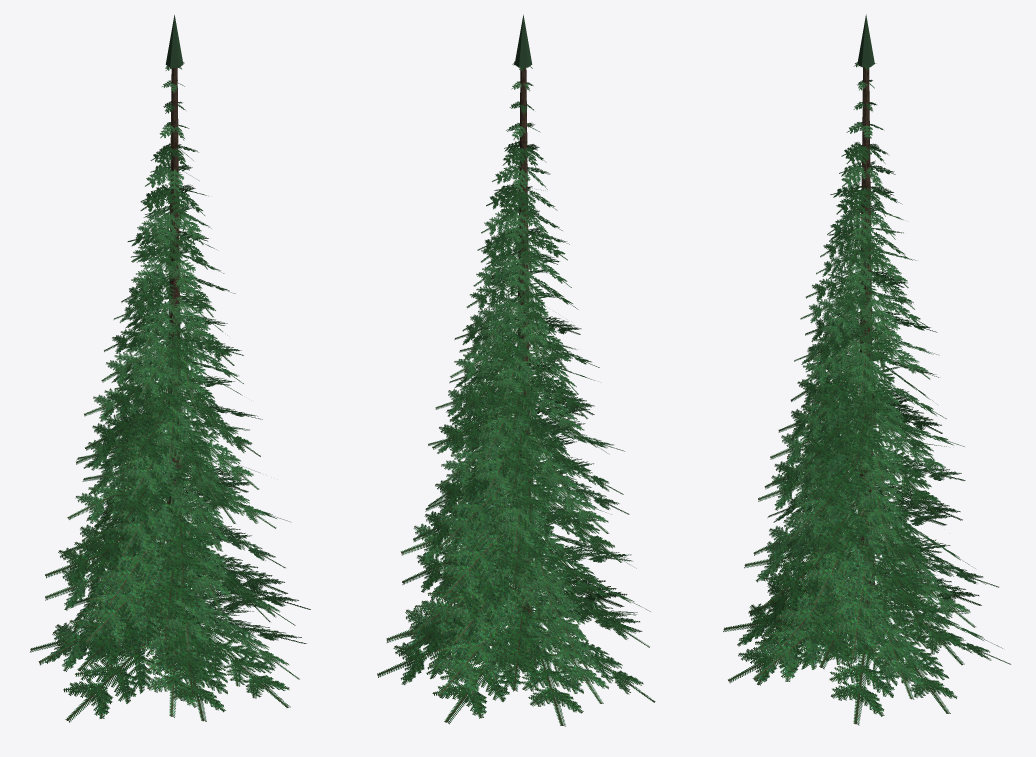
The model's file is spruce_hq_a.glb.
3 views of the same model, side by side, from view 1: azimuth 30°, elevation 25°; view 2: azimuth 150°, elevation 25°; view 3: azimuth 270°, elevation 25° (orthographic).
Visible parts, largest first — view 1: sprucehq; view 2: sprucehq; view 3: sprucehq.
Part boxes in pixels (x1=…): sprucehq: x1=30, y1=15, x2=310, y2=722; sprucehq: x1=377, y1=14, x2=655, y2=726; sprucehq: x1=723, y1=14, x2=1010, y2=725.
Size of the model in its own units: 12.31 by 29.56 by 12.59.
Materials: 4 (3 with a texture image).
